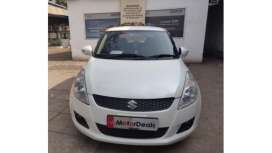nameplate: (106, 116, 157, 130)
